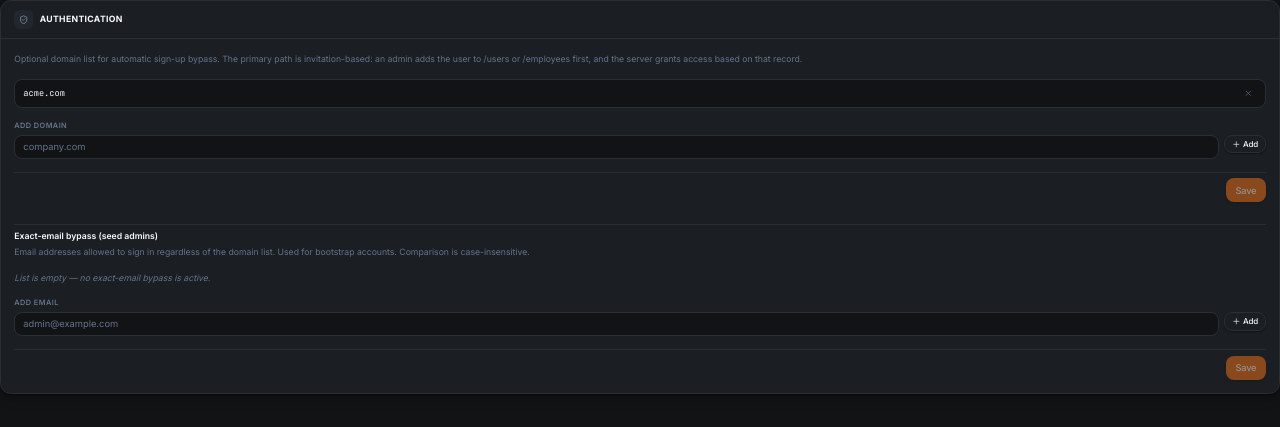
Test: AuthSettingsPanel › shows duplicate error and does not add a duplicate
Expected: the text "acme.com" is shown, [23, 87, 65, 100]
# Add same domain in uppercase
In the field with id "auth-add-domain": (617, 147) [14, 135, 1219, 159], type "ACME.com"
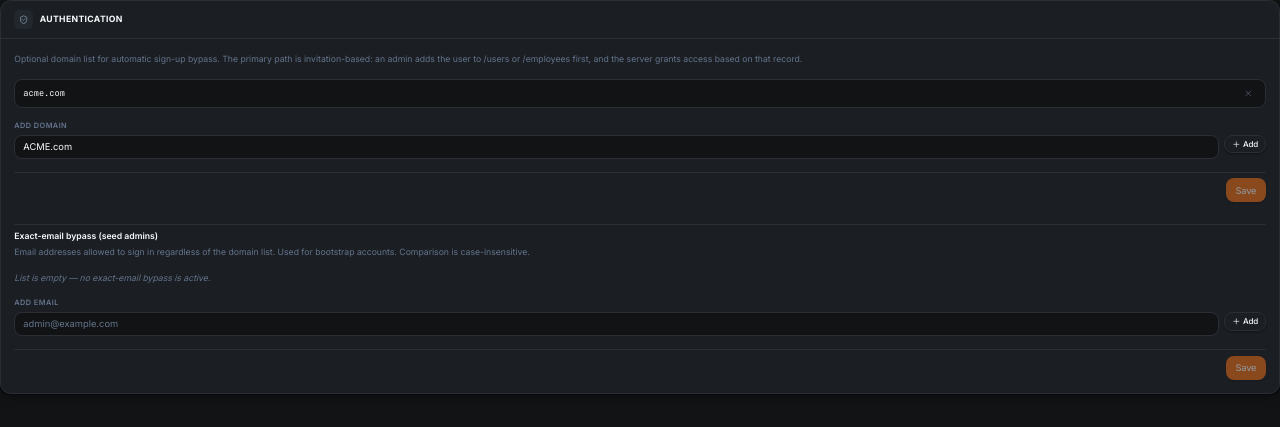
Click the 1st button "Add": click(1245, 144) [1224, 135, 1266, 153]
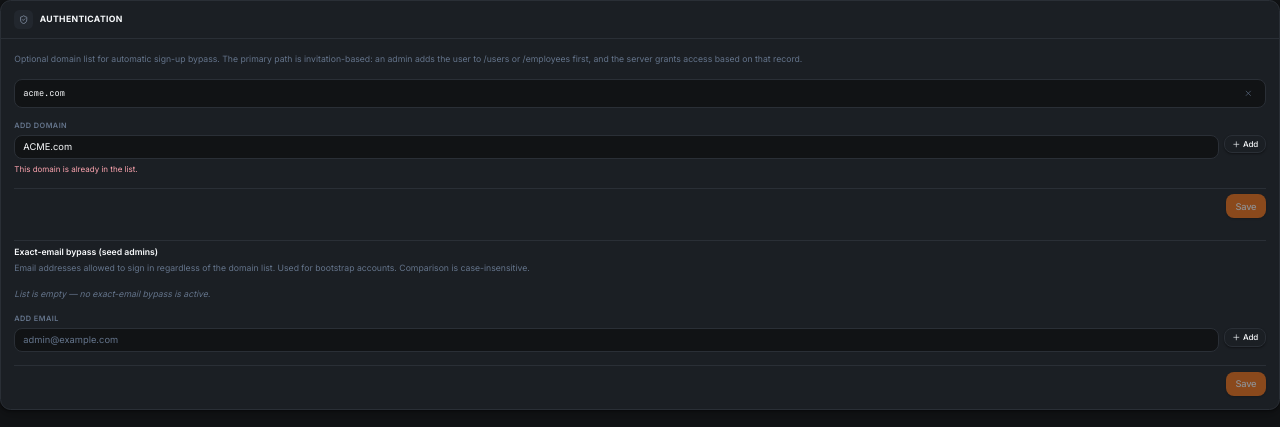
Expected: the number of list items is 1, [14, 79, 1266, 108]
Expected: the message "This domain is already in the list." is shown, [14, 164, 138, 174]
